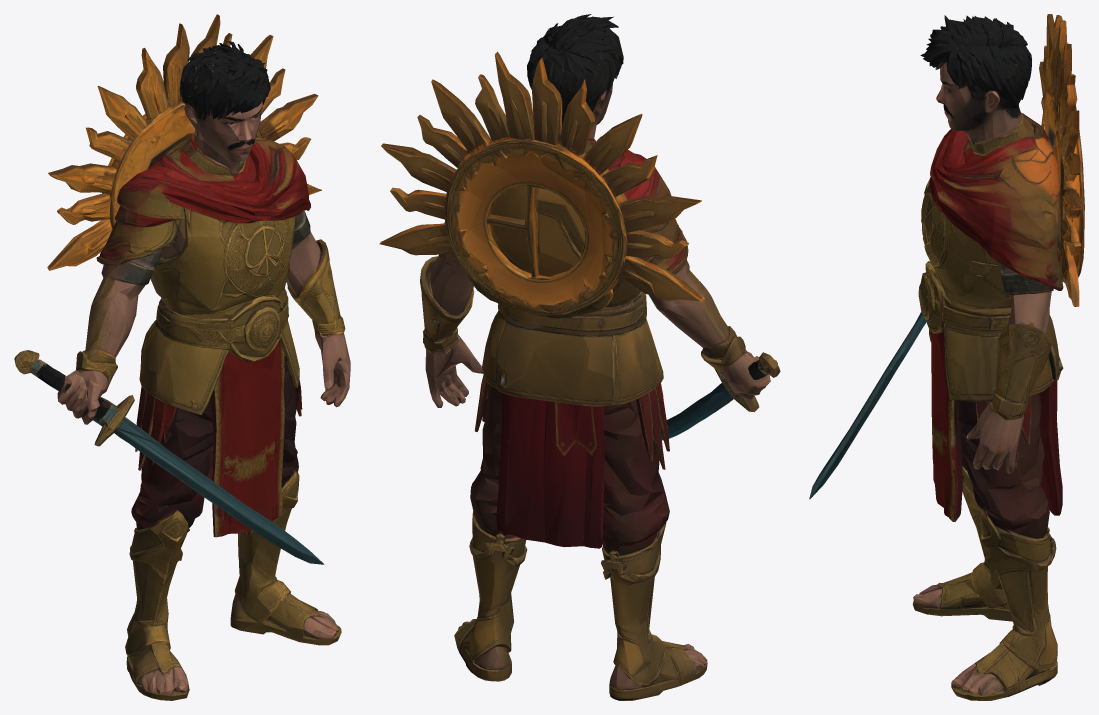
The model's file is apolaki.glb.
The picture shows the model from 3 angles, left to right: view 1: azimuth 30°, elevation 25°; view 2: azimuth 150°, elevation 25°; view 3: azimuth 270°, elevation 25°; orthographic projection. The views are drawn at different scales.
Parts seen in each view (by area): view 1: mesh_node; view 2: mesh_node; view 3: mesh_node.
Part boxes in pixels (x1=…): mesh_node: x1=14, y1=14, x2=350, y2=700; mesh_node: x1=379, y1=14, x2=780, y2=700; mesh_node: x1=809, y1=14, x2=1084, y2=700.
Bounding box in the file's own units: 1.11 × 1.9 × 0.755.
Materials: 1 (1 with a texture image).
